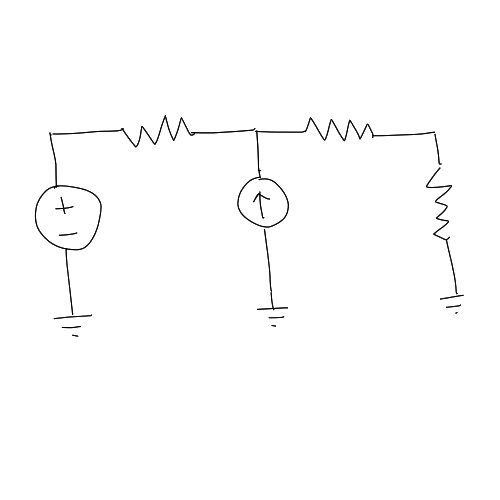dccs: (232, 173, 289, 233)
dcvs: (33, 182, 104, 252)
gnd: (47, 308, 100, 342), (252, 302, 302, 338), (434, 290, 476, 322)
res: (115, 113, 201, 151), (424, 159, 454, 246), (299, 114, 377, 145)
